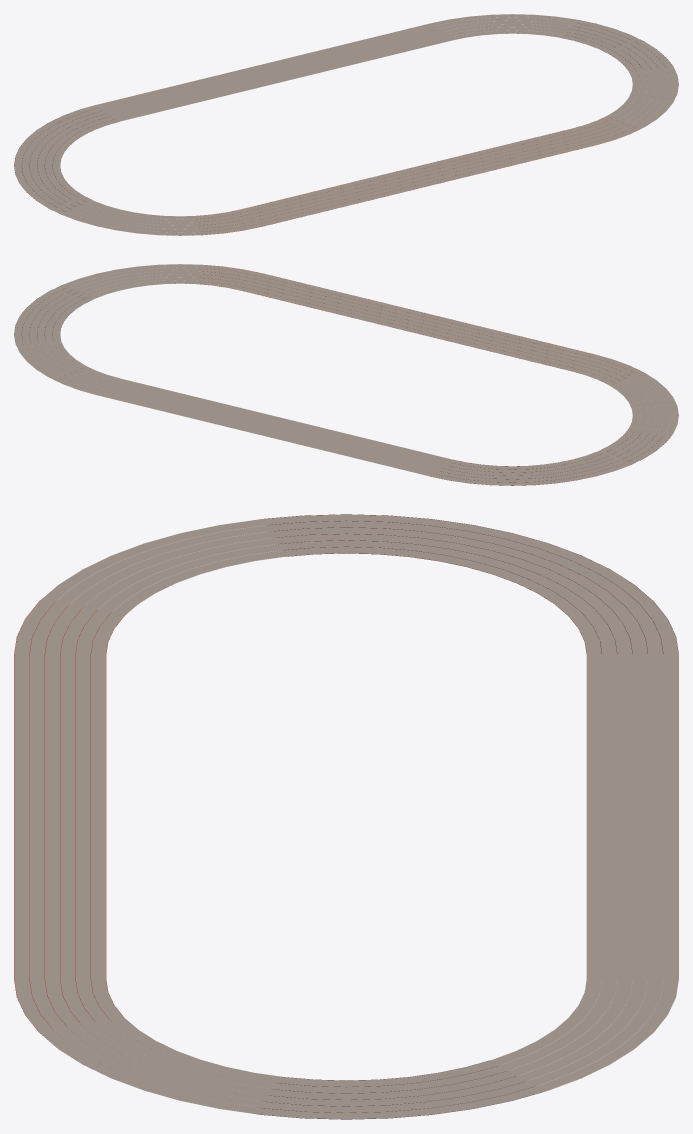
Rendered from six_lane_oval_560x260.glb.
3 renders of one model, top to bottom at view 1: azimuth 30°, elevation 25°; view 2: azimuth 150°, elevation 25°; view 3: azimuth 270°, elevation 25°, orthographic. The views are drawn at different scales.
Visible parts, largest first — view 1: six_lane_oval_560x260; view 2: six_lane_oval_560x260; view 3: six_lane_oval_560x260.
Part boxes in pixels (x1=…): six_lane_oval_560x260: x1=14, y1=14, x2=678, y2=235; six_lane_oval_560x260: x1=14, y1=264, x2=678, y2=485; six_lane_oval_560x260: x1=14, y1=514, x2=678, y2=1119.
Bounding box in the file's own units: 560 × 0.11 × 260.
Materials: 1 (1 with a texture image).
